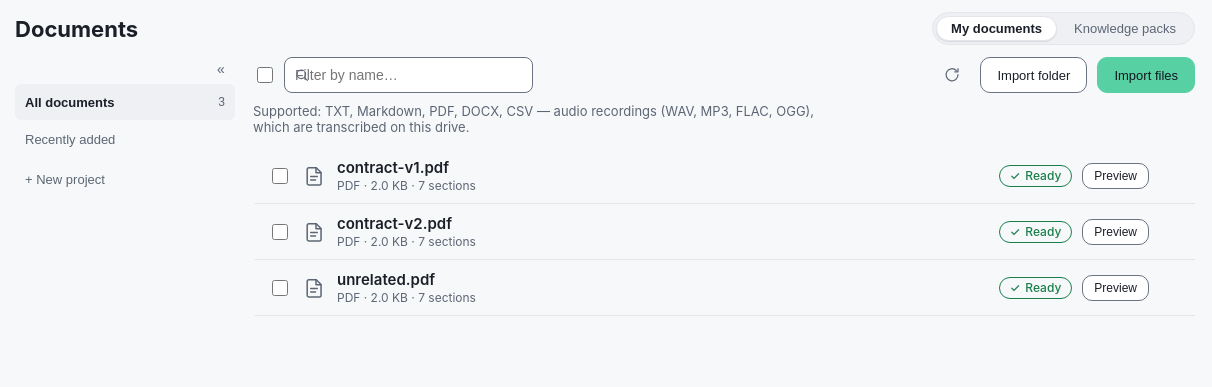
DocumentsScreen — Compare action (Phase 35) › offers "Compare (2)" at EXACTLY two selections
Expected: the text "contract-v1.pdf" is shown, [337, 158, 449, 176]
Expected: the button "compare (2)" is not shown
Step 1. Click the checkbox named "Select contract-v1.pdf for asking" → (280, 176), box [272, 168, 288, 184]
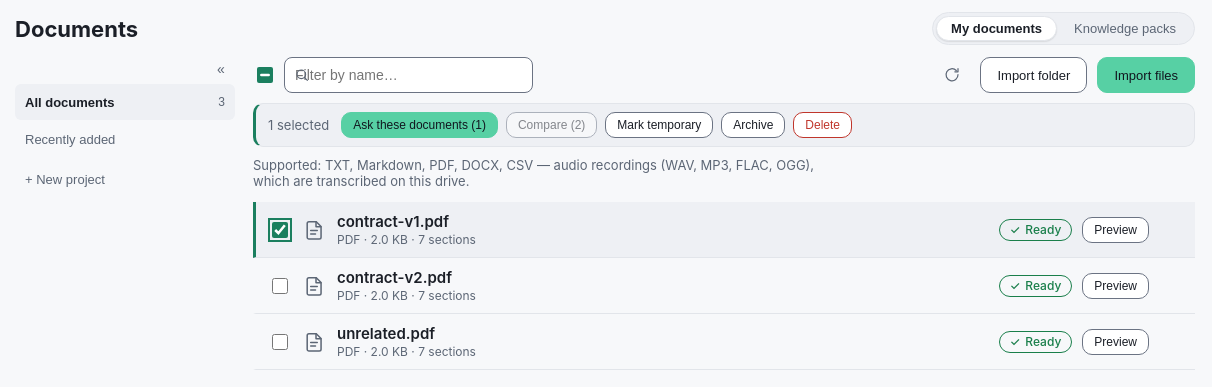
Now the button "Compare (2)" is disabled, box [506, 112, 597, 138]
Step 2. Click the checkbox named "Select contract-v2.pdf for asking" → (280, 286), box [272, 278, 288, 294]
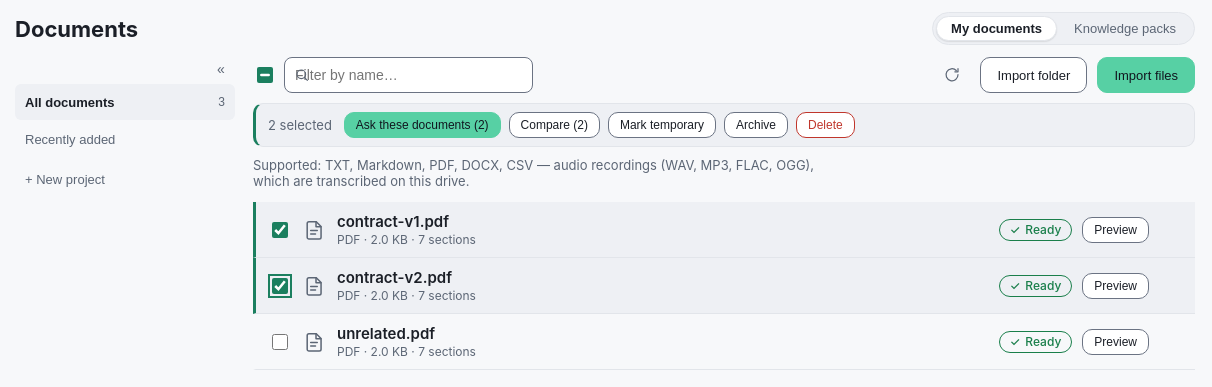
Now the button "Compare (2)" is enabled, box [509, 112, 600, 138]
Step 3. Click the checkbox named "Select unrelated.pdf for asking" → (280, 342), box [272, 334, 288, 350]
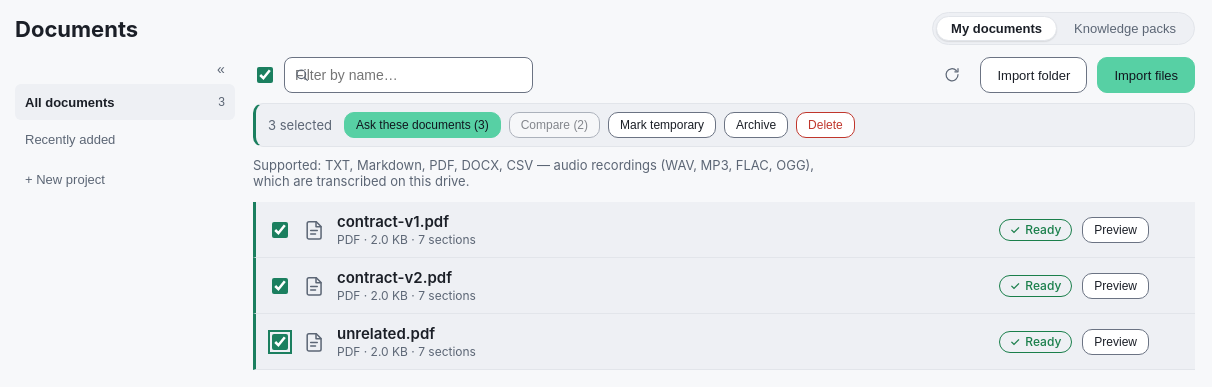
Now the button "Compare (2)" is disabled, box [509, 112, 600, 138]
